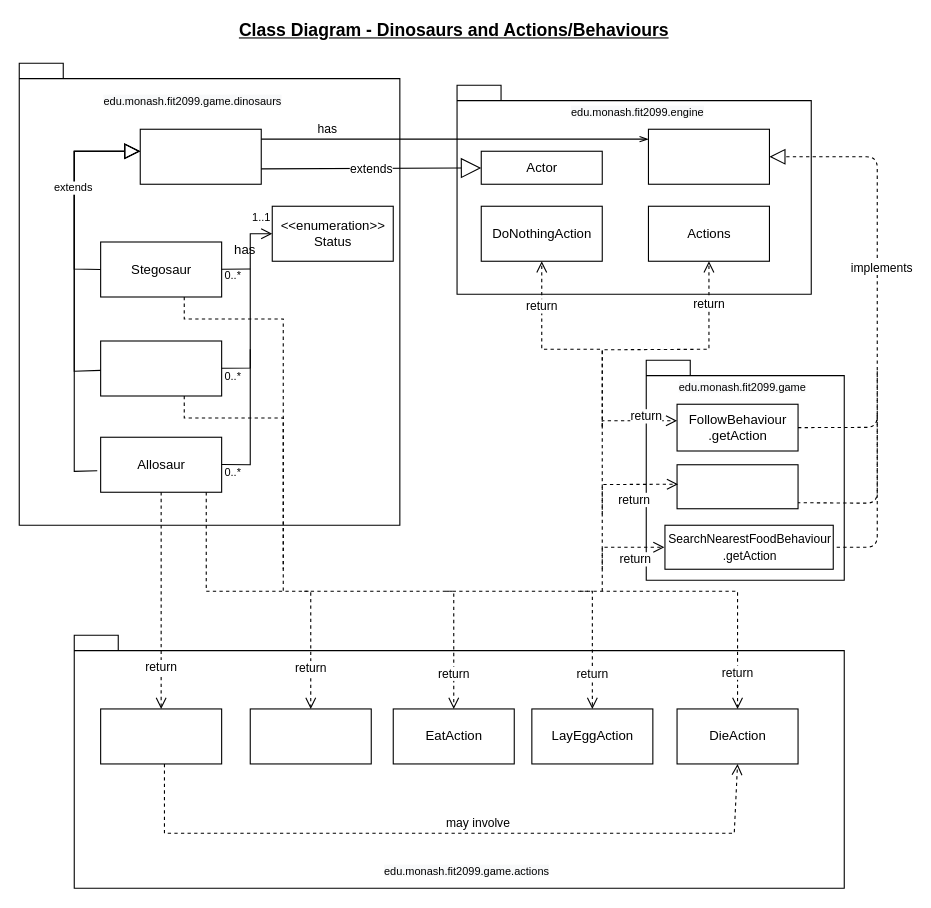
The diagram is 931 pixels wide and 908 high, and some of its shapes have lost their labels. The shapes that lost their labels are listed below. From the top down, each one's box as (x1, y1, x2, y2) in pixels, then its label:
(139, 128, 261, 184): «abstract» Dinosaur
(647, 128, 769, 184): <<interface>> Behaviour
(100, 340, 222, 396): Brachiosaur
(676, 464, 798, 509): WanderBehaviour .getAction
(100, 708, 222, 764): AttackAction
(249, 708, 371, 764): BreedAction
